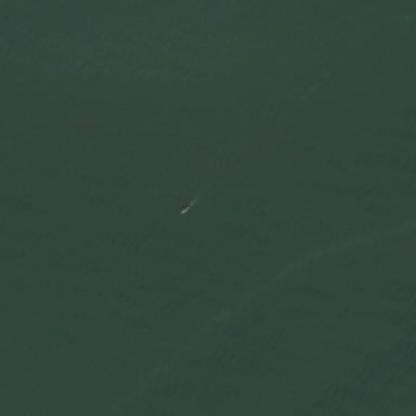ship: (170, 199, 196, 219)
